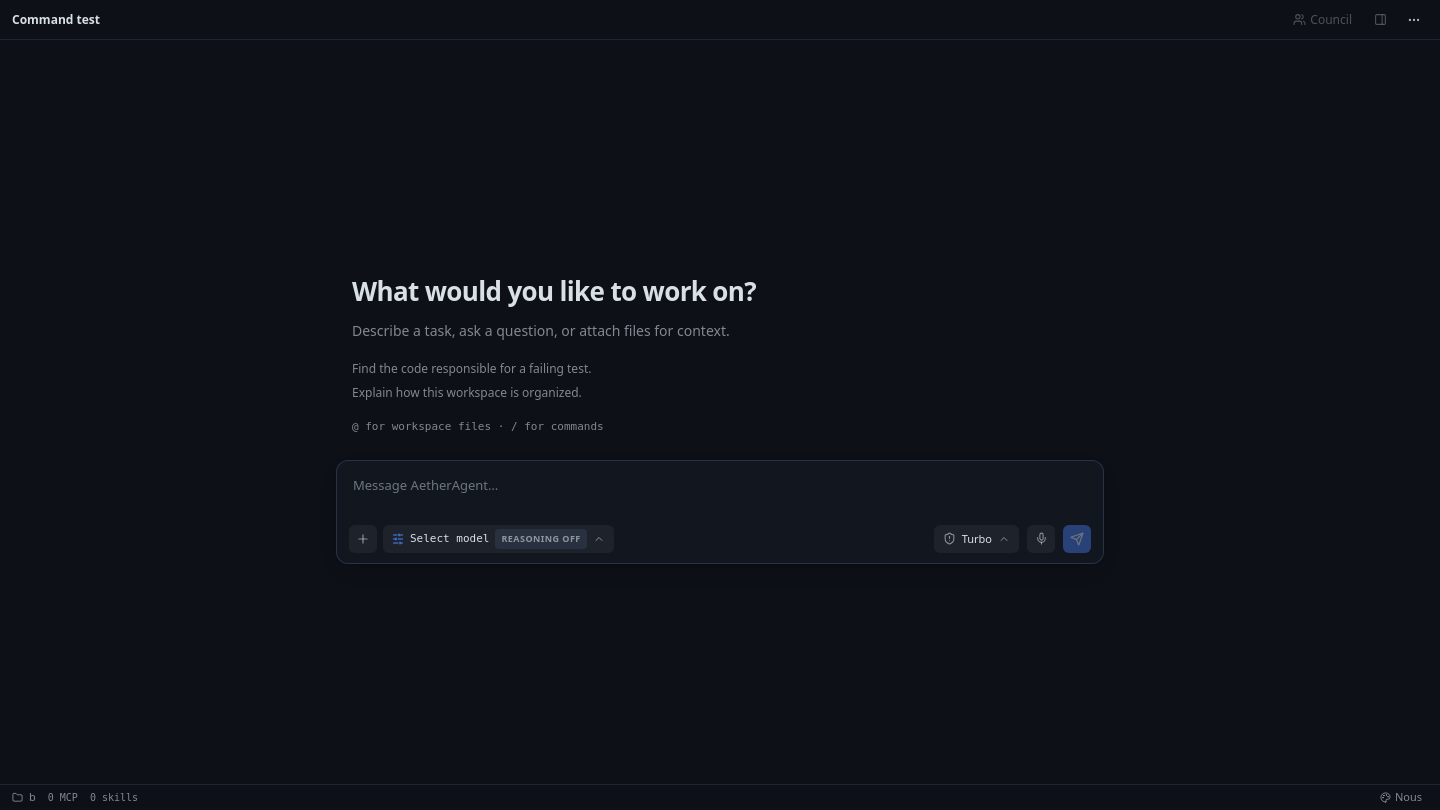
Test case: ChatCanvas selected skills › ignores an old workspace catalog response after navigation
Click the button named "Add Context" at [363, 538], box [349,524,377,552]
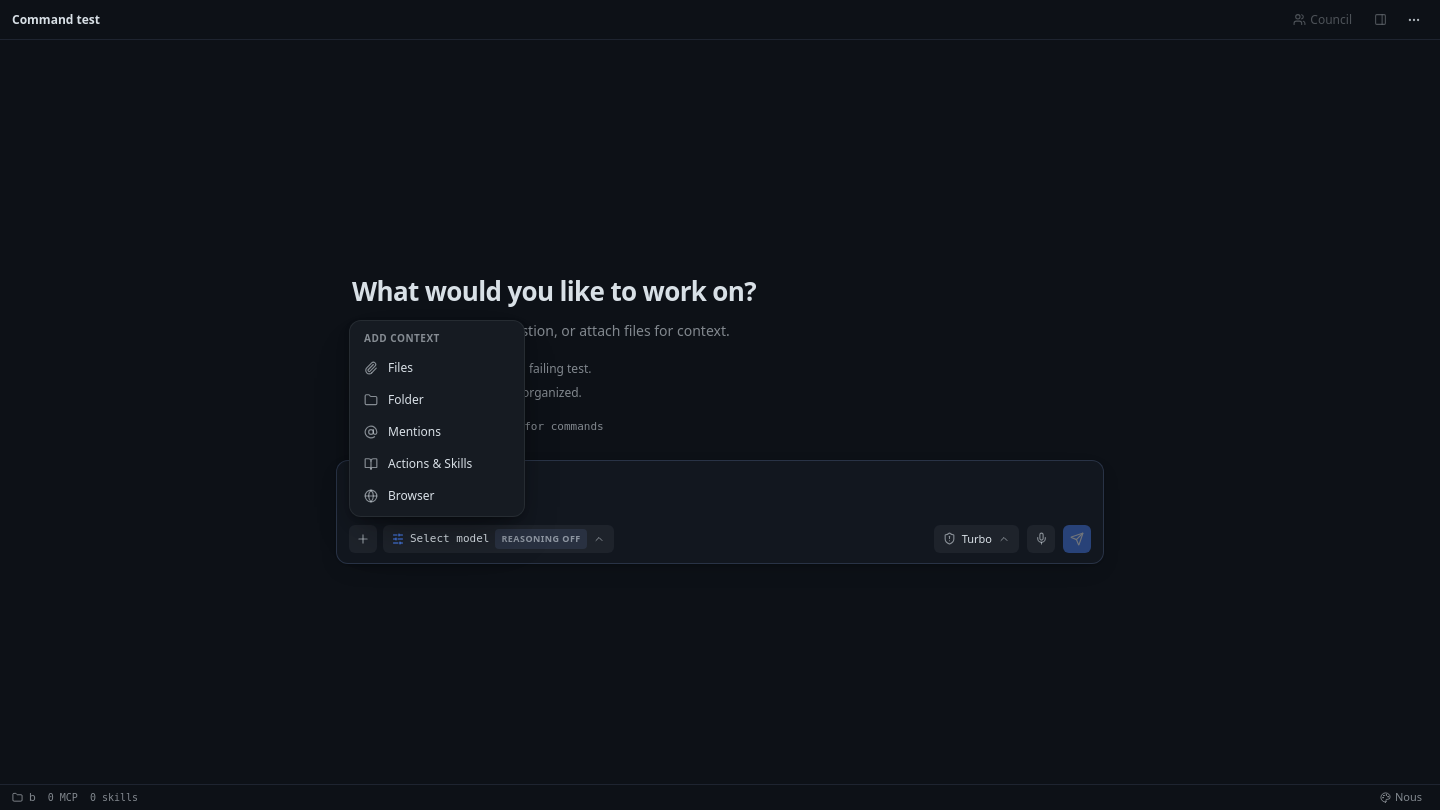
Click the button "Actions & Skills" at [437, 464], box [354,448,520,480]
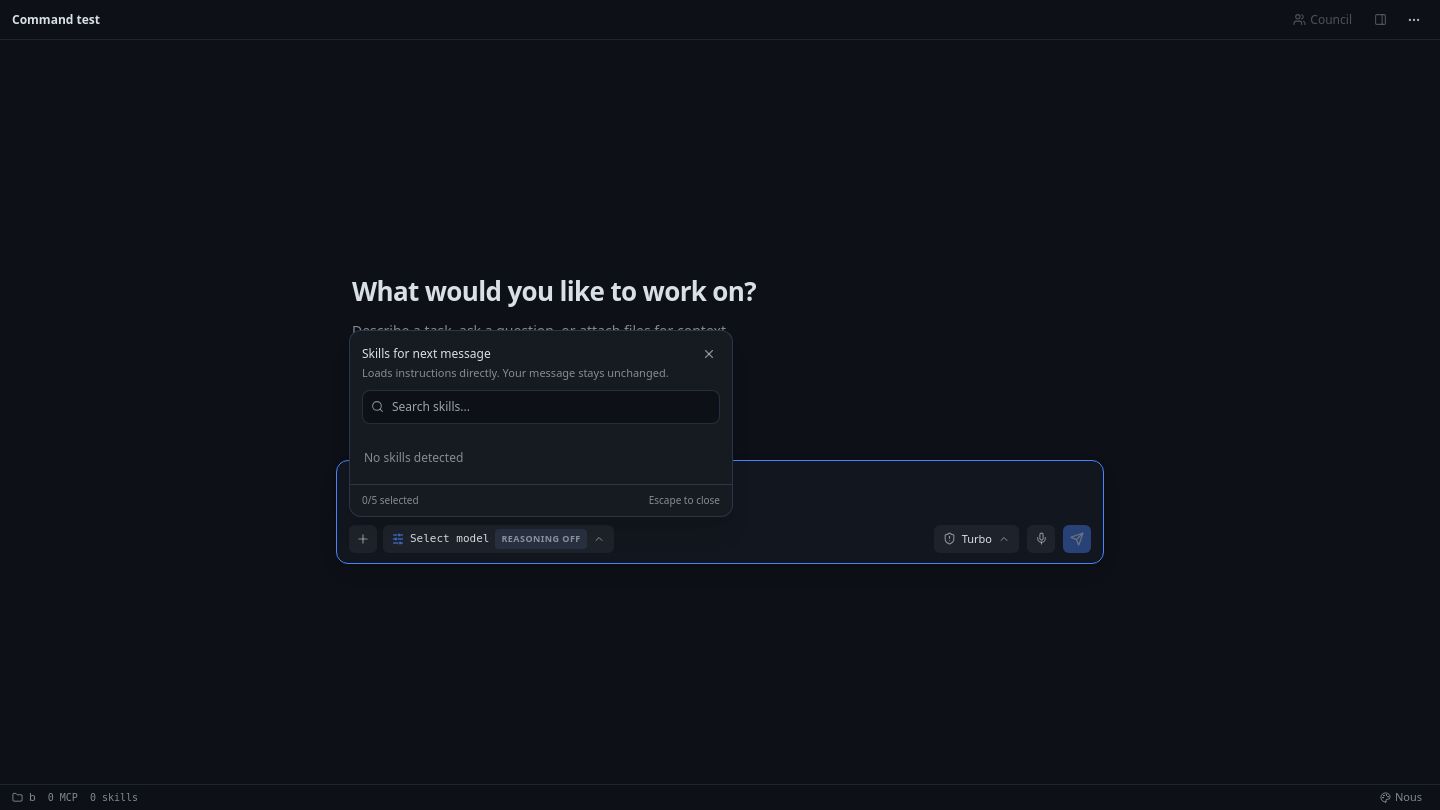
Check: the text "No skills detected" is shown, box [364,448,463,466]
